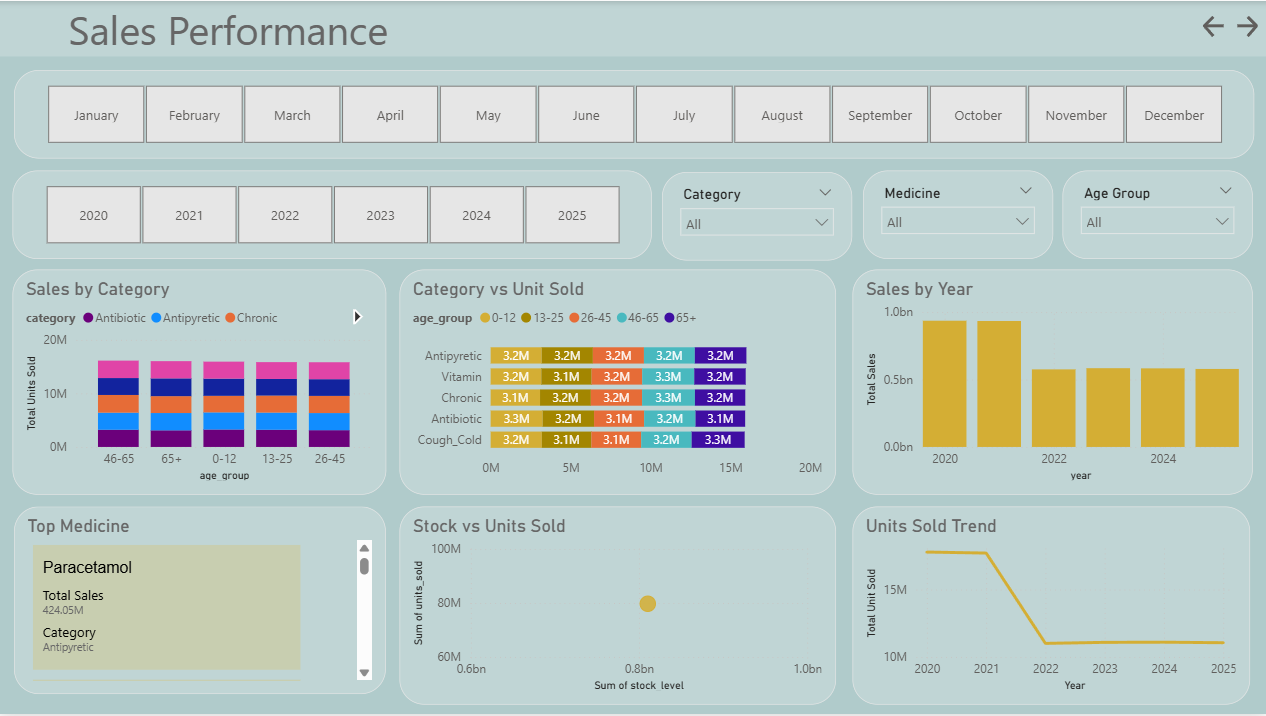

The page's visual inventory and layout, read from the dashboard file:
{"tool":"powerbi","page":{"name":"SALES PERFORMANCE","canvas":[1280,720],"ordinal":1},"visuals":[{"type":"textbox","box":[0,0,1279.5,51.5],"z":1000},{"type":"lineChart","title":"Units Sold Trend","fields":{"Category":["global_pharmacy_sales_2020_2025.year"],"Y":["Sum(global_pharmacy_sales_2020_2025.units_sold)"]},"box":[369.5,402.8,722.3,316.5],"z":6000},{"type":"columnChart","title":"Sales by Age Group","fields":{"Category":["global_pharmacy_sales_2020_2025.age_group"],"Y":["Sum(global_pharmacy_sales_2020_2025.units_sold)"],"Series":["global_pharmacy_sales_2020_2025.category"]},"box":[236.2,69.7,498.2,322.5],"z":7000},{"type":"clusteredColumnChart","title":"Sales by Year","fields":{"Y":["global_pharmacy_sales_2020_2025.Total Sales"],"Category":["global_pharmacy_sales_2020_2025.year"]},"box":[748,72.7,516.3,316.5],"z":8000},{"type":"slicer","fields":{"Values":["global_pharmacy_sales_2020_2025.year"]},"box":[0,72.7,225.6,116.6],"z":9000},{"type":"slicer","fields":{"Values":["global_pharmacy_sales_2020_2025.category"]},"box":[0,205.9,225.6,183.2],"z":10000},{"type":"slicer","fields":{"Values":["global_pharmacy_sales_2020_2025.age_group"]},"box":[0,402.8,225.6,186.2],"z":11000}]}

Visuals, with their boxes in screenshot pixels (x1, y1, x2, y2), scaled from the page's 1280x720 canvas onto the 1266x716 screenshot:
textbox: 0,0,1265,51
"Units Sold Trend" lineChart: 365,401,1080,715
"Sales by Age Group" columnChart: 234,69,726,390
"Sales by Year" clusteredColumnChart: 740,72,1250,387
slicer - global_pharmacy_sales_2020_2025.year: 0,72,223,188
slicer - global_pharmacy_sales_2020_2025.category: 0,205,223,387
slicer - global_pharmacy_sales_2020_2025.age_group: 0,401,223,586
